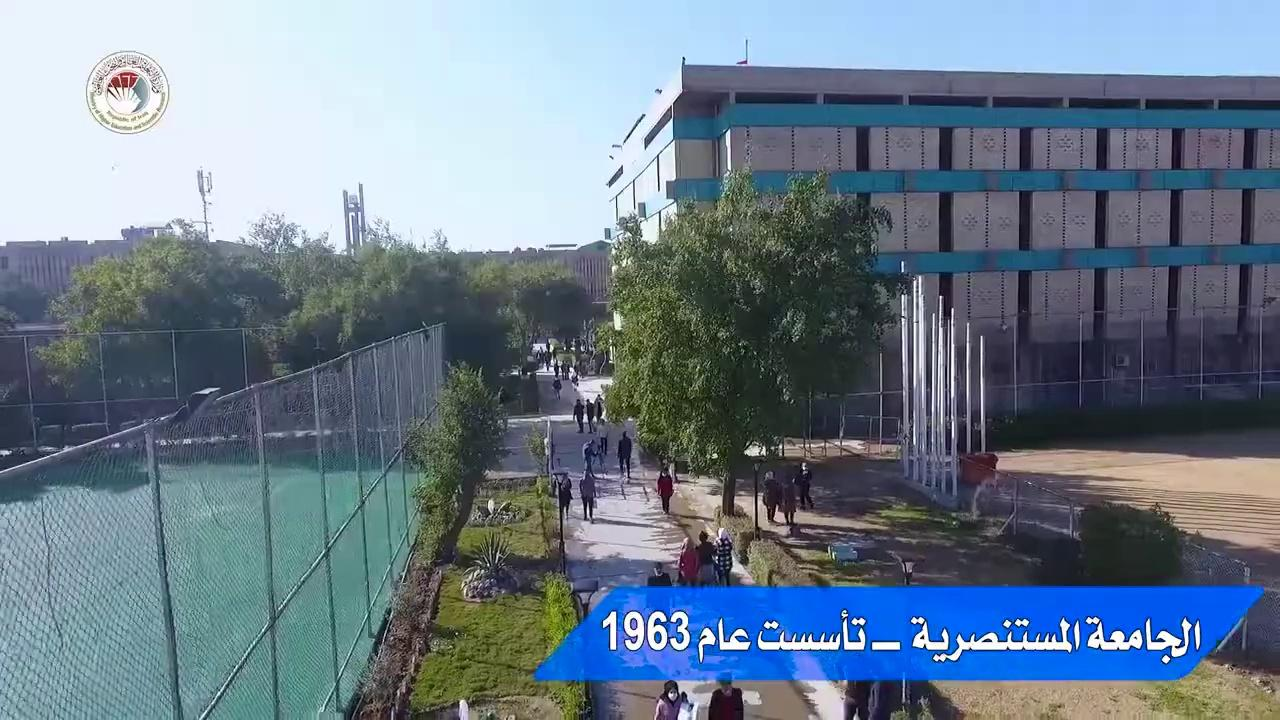fountain: (1, 319, 459, 718), (894, 268, 999, 505)
person: (707, 670, 744, 719), (712, 527, 733, 586), (842, 679, 872, 719), (653, 679, 682, 719), (695, 530, 715, 585), (676, 536, 698, 585), (761, 470, 781, 522), (793, 461, 813, 509), (578, 469, 596, 521), (655, 468, 673, 514), (616, 430, 632, 479), (556, 472, 573, 517), (779, 481, 796, 525), (677, 691, 694, 719)
tree: (33, 209, 592, 414), (596, 162, 908, 520), (349, 358, 510, 718), (401, 358, 510, 565), (532, 570, 589, 719), (497, 300, 532, 376), (524, 422, 549, 478)
